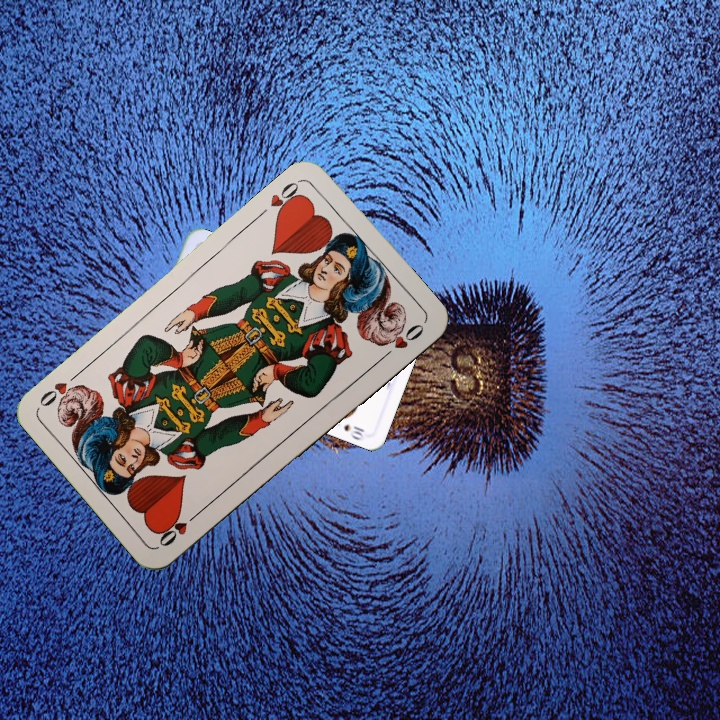HO: (155, 506, 204, 550), (266, 175, 307, 221)
